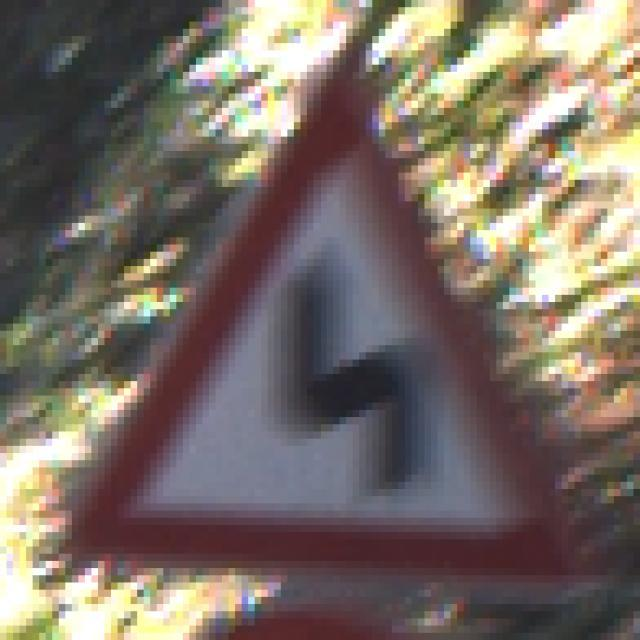left reverse bend: (63, 84, 596, 586)
